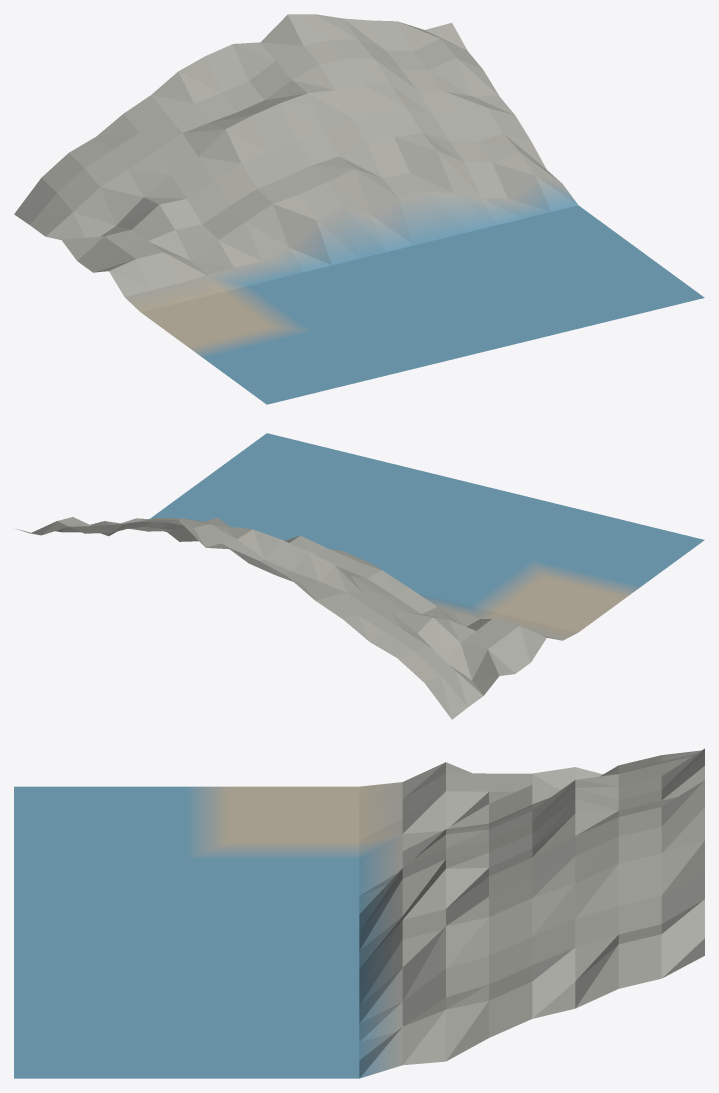
3 views of the same model, one above another, from view 1: azimuth 30°, elevation 25°; view 2: azimuth 150°, elevation 25°; view 3: azimuth 270°, elevation 25° (orthographic). The views are drawn at different scales.
Size of the model in its own units: 32 by 9.66 by 32.
